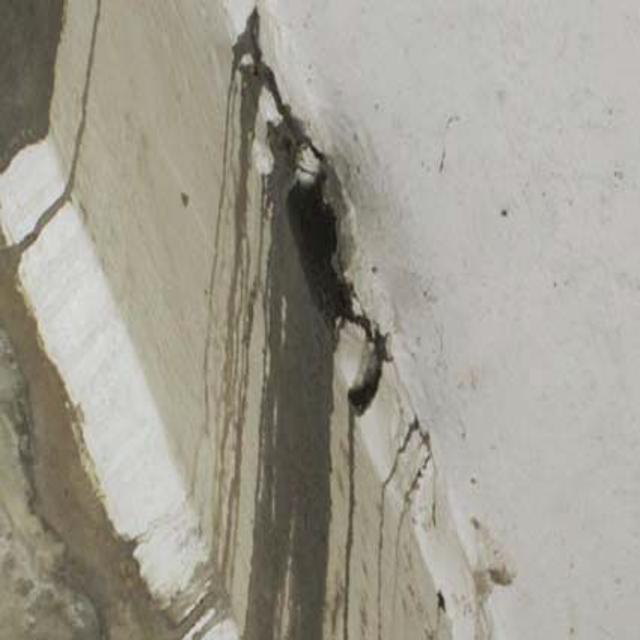leakage: (224, 30, 359, 640)
